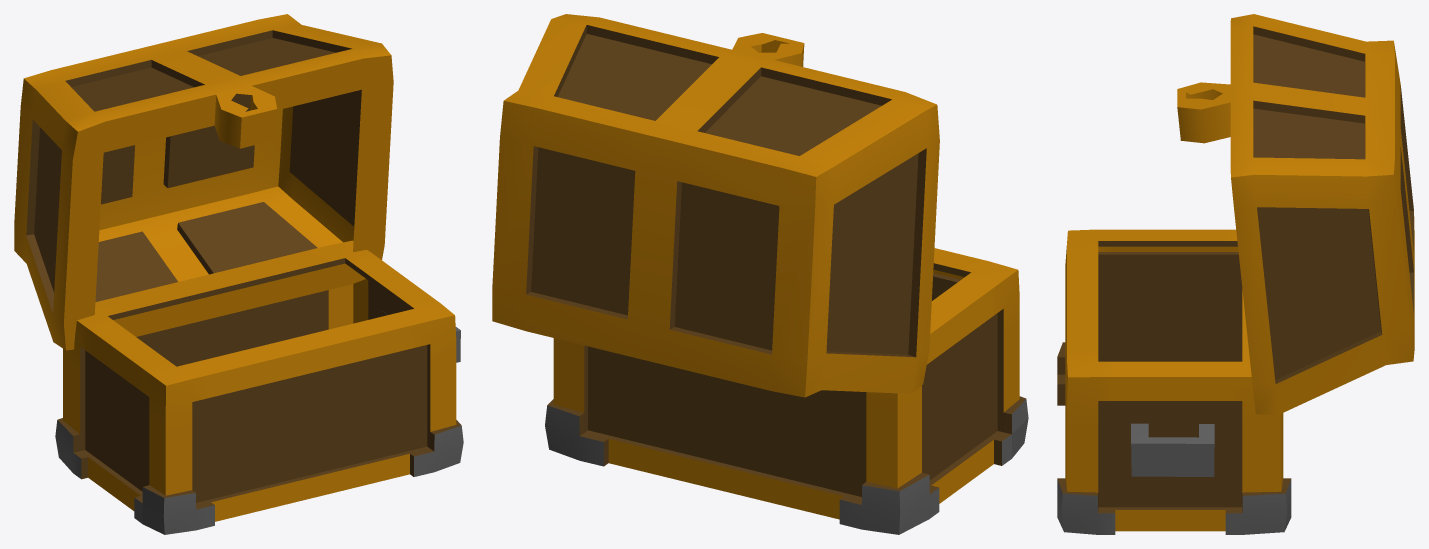
File: chest_open.dae
The picture shows the model from 3 angles, left to right: view 1: azimuth 30°, elevation 25°; view 2: azimuth 150°, elevation 25°; view 3: azimuth 270°, elevation 25°; orthographic projection. The views are drawn at different scales.
Visible parts, largest first — view 1: polySurface3, polySurface4; view 2: polySurface3, polySurface4; view 3: polySurface3, polySurface4.
Part boxes in pixels (x1,y1,x2,y2): polySurface3: [14, 14, 393, 350]; polySurface4: [55, 240, 463, 534]; polySurface3: [492, 14, 939, 397]; polySurface4: [545, 248, 1028, 534]; polySurface3: [1177, 14, 1414, 414]; polySurface4: [1057, 229, 1291, 534].
Bounding box in the file's own units: 2.9 × 2.88 × 2.54.
